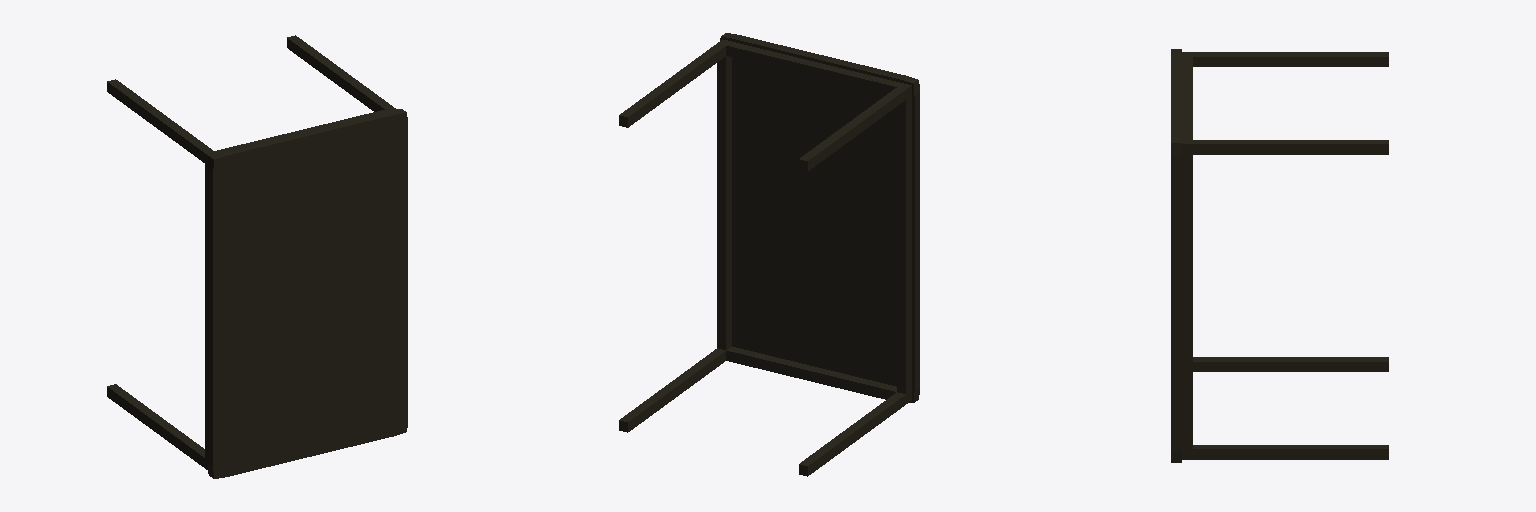
3 views of the same model, side by side, from view 1: azimuth 30°, elevation 25°; view 2: azimuth 150°, elevation 25°; view 3: azimuth 270°, elevation 25° (orthographic).
Bounding box in the file's own units: 0.763 × 1.2 × 0.7412.
1 materials, 1 textured.